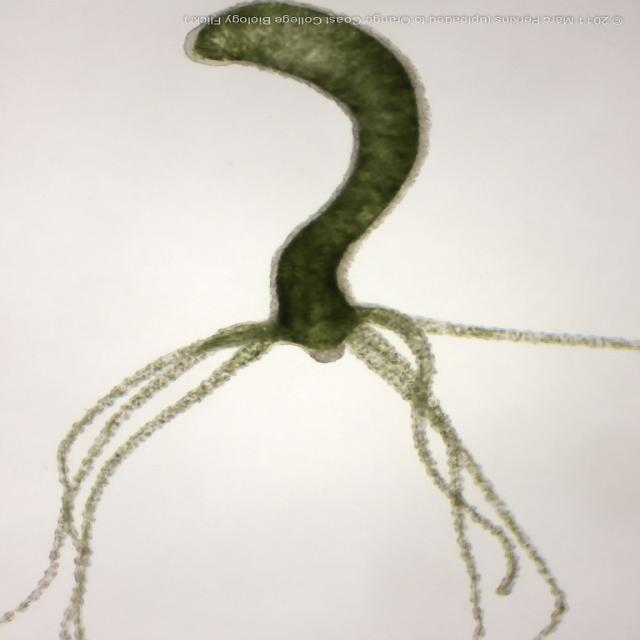Rod_bacteria: (4, 2, 638, 640)
